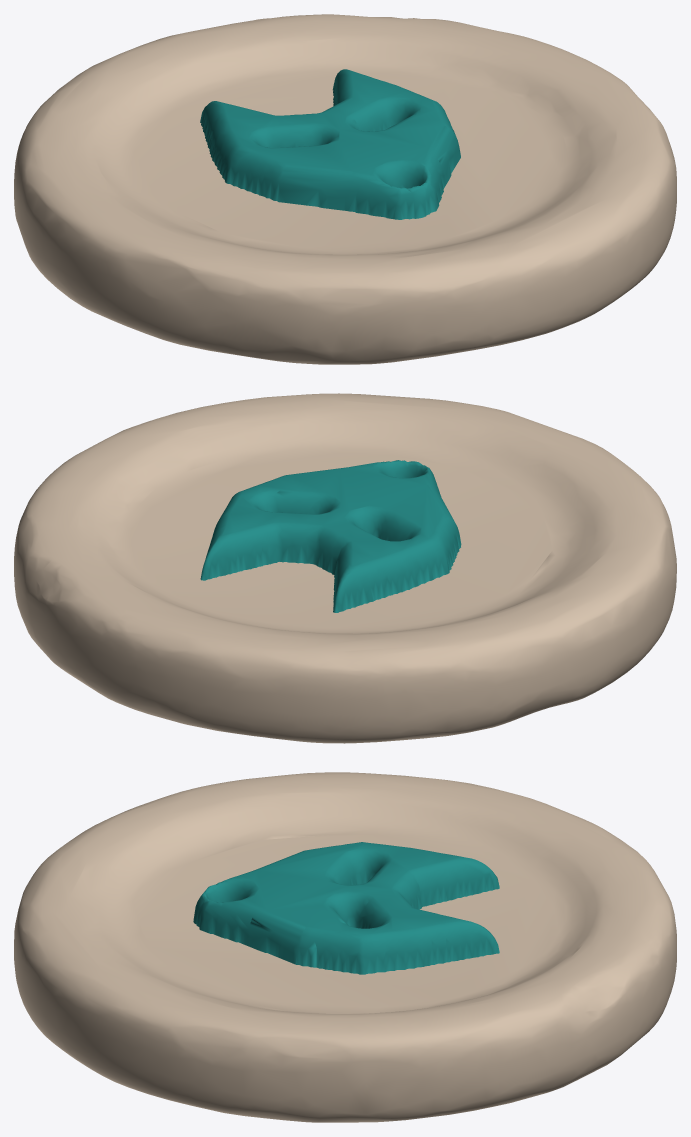
The model's file is token-hunter-red.glb.
3 views of the same model, one above another, from view 1: azimuth 30°, elevation 25°; view 2: azimuth 150°, elevation 25°; view 3: azimuth 270°, elevation 25° (orthographic).
Parts seen in each view (by area): view 1: token_hunter_red; view 2: token_hunter_red; view 3: token_hunter_red.
Part boxes in pixels (bbox=[...]): token_hunter_red: bbox=[14, 14, 676, 364]; token_hunter_red: bbox=[14, 393, 676, 743]; token_hunter_red: bbox=[14, 772, 676, 1122].
Size of the model in its own units: 0.414 by 0.0722 by 0.4142.
